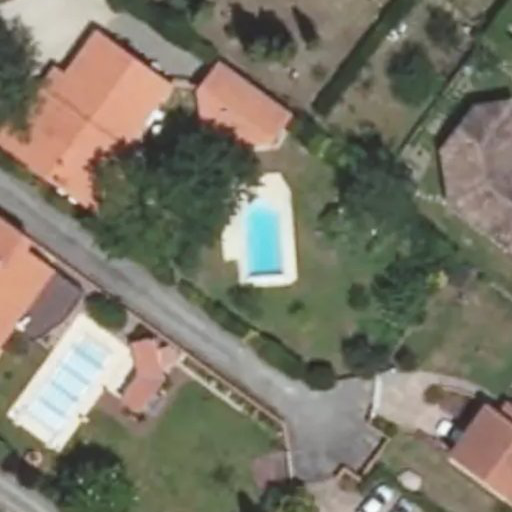pool: (236, 197, 275, 286)
